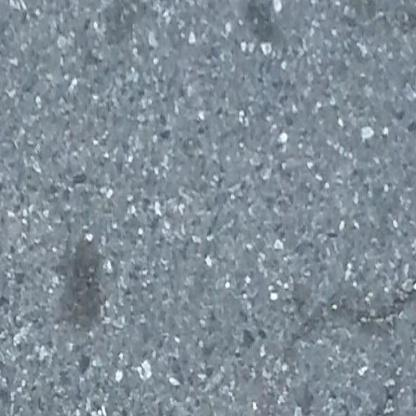Cracks: (274, 248, 416, 369), (330, 360, 405, 416)
